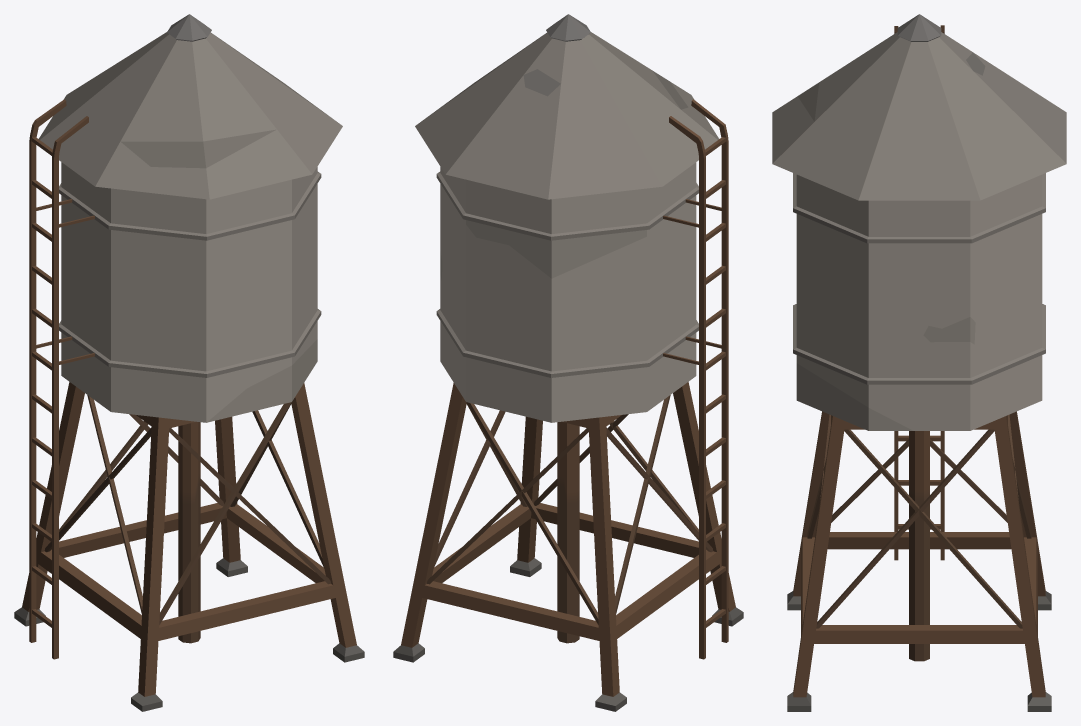
Rendered from SM_Props_Roof_Water_Tower_01.fbx.
The picture shows the model from 3 angles, left to right: view 1: azimuth 30°, elevation 25°; view 2: azimuth 150°, elevation 25°; view 3: azimuth 270°, elevation 25°; orthographic projection. The views are drawn at different scales.
Parts seen in each view (by area): view 1: SM_Props_Roof_Water_Tower_01; view 2: SM_Props_Roof_Water_Tower_01; view 3: SM_Props_Roof_Water_Tower_01.
Boxes of the visible parts, x1,y1,x2,y2 form: SM_Props_Roof_Water_Tower_01: [14, 14, 364, 711]; SM_Props_Roof_Water_Tower_01: [393, 14, 743, 711]; SM_Props_Roof_Water_Tower_01: [772, 14, 1066, 711].
Bounding box in the file's own units: 237 × 521 × 216.
